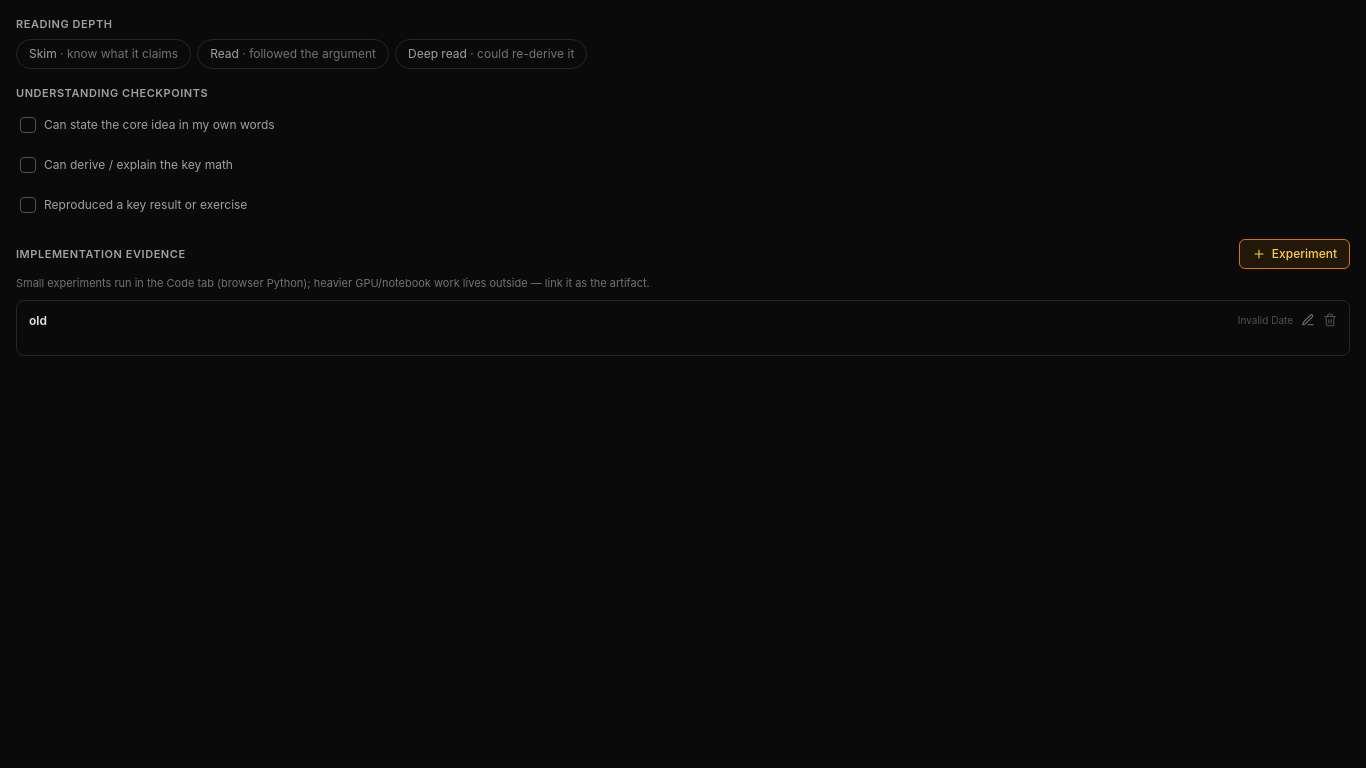
Scenario: EvidencePane — unfinished drafts survive unmount (regression) › editing a record deleted elsewhere falls back to creating, not dropping content
Click the button named "Edit old" at {"x": 1308, "y": 320}, box [1301, 312, 1315, 326]
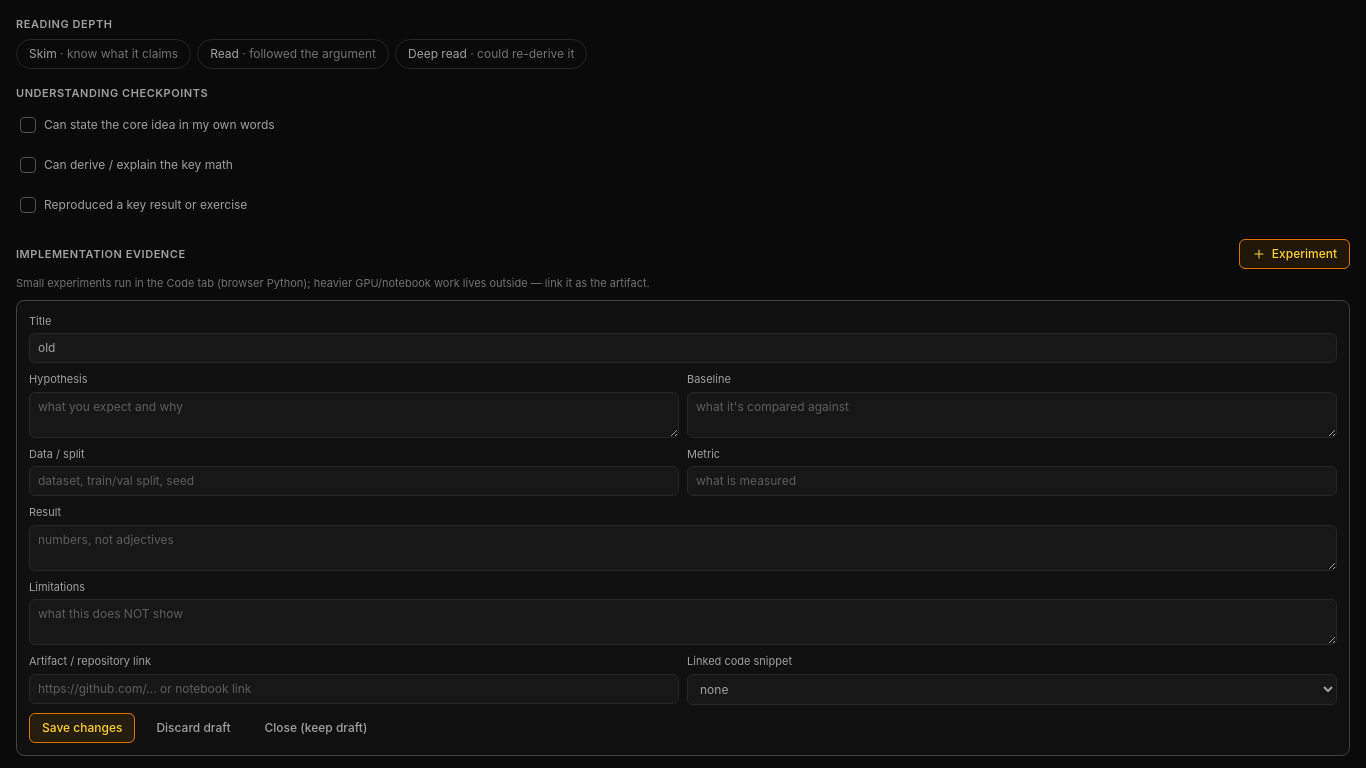
Replace the text in the field labelled "Title" with "edited content" at {"x": 683, "y": 348}, box [29, 333, 1337, 363]
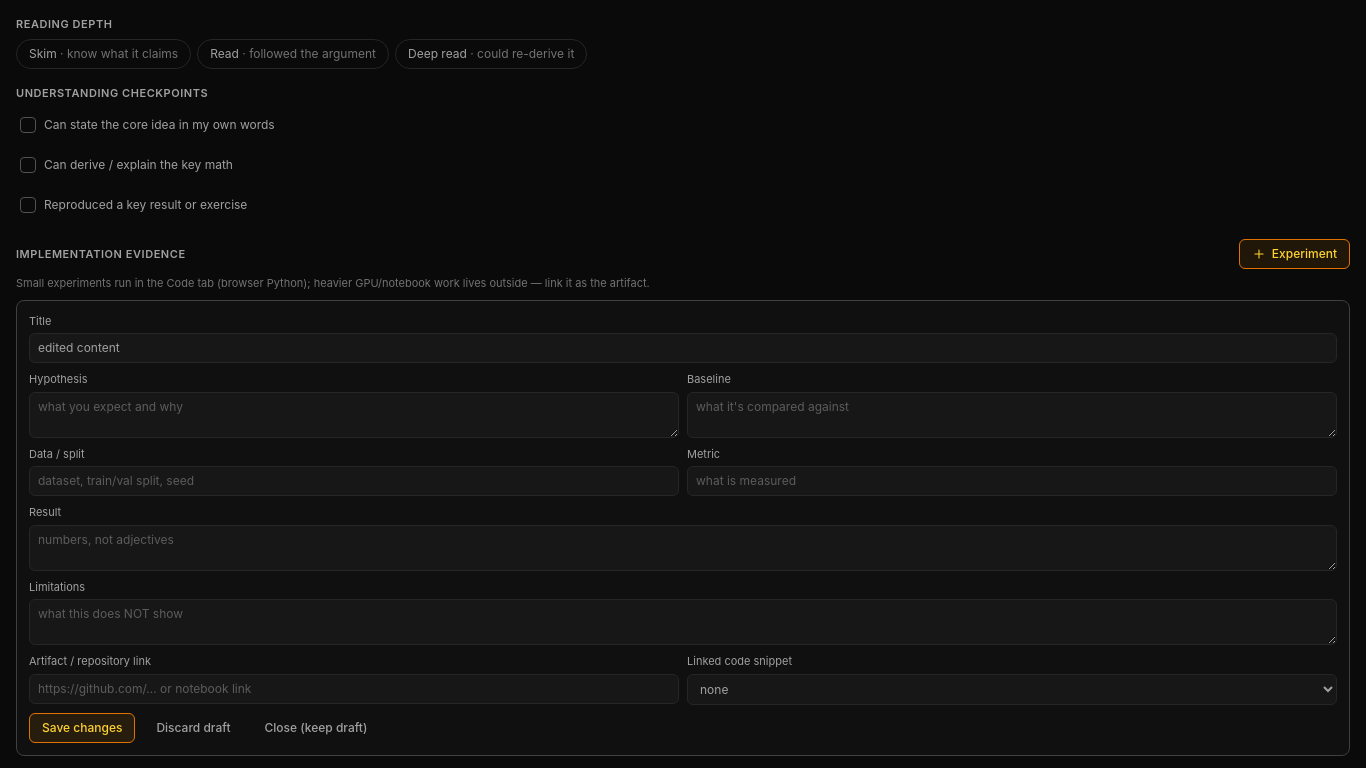
Click the button "Save changes" at {"x": 82, "y": 728}, box [29, 712, 135, 742]
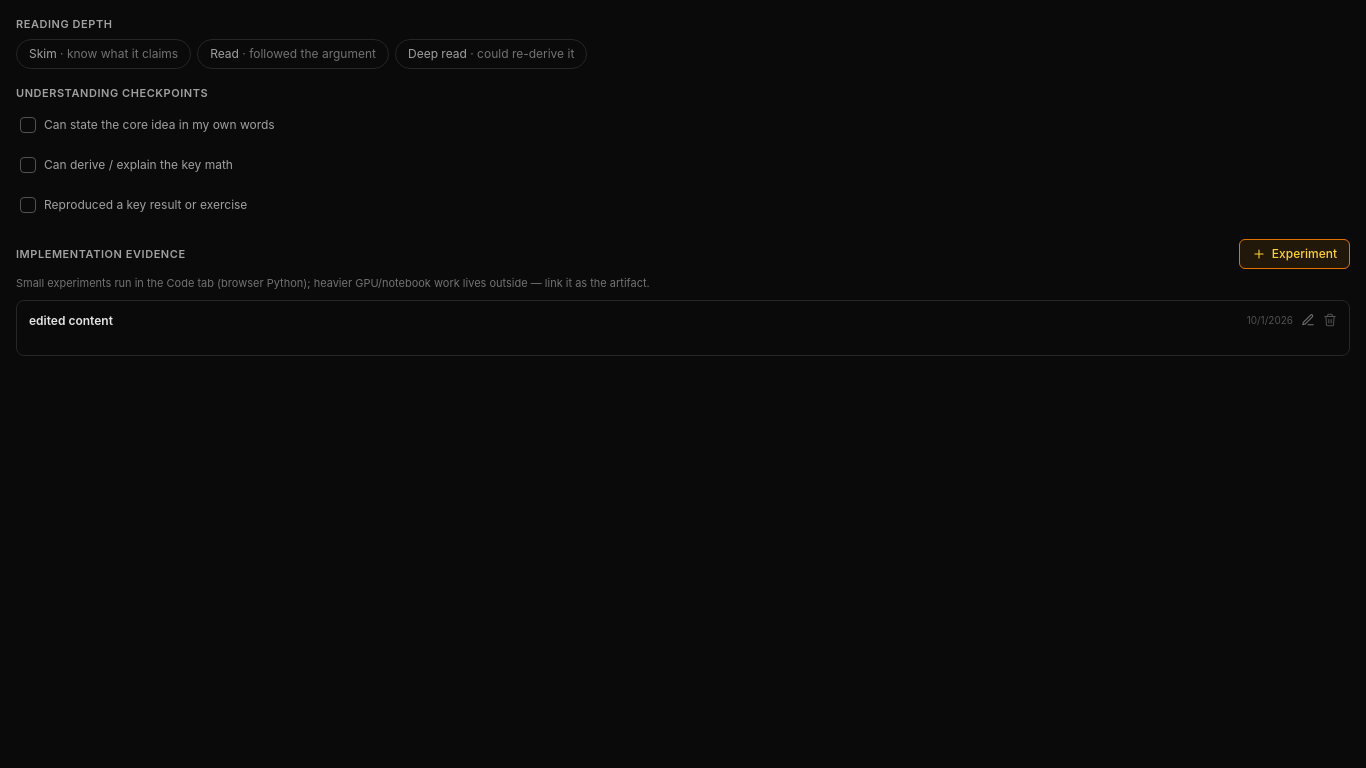
Expected: the text "edited content" is shown, [29, 312, 113, 328]
